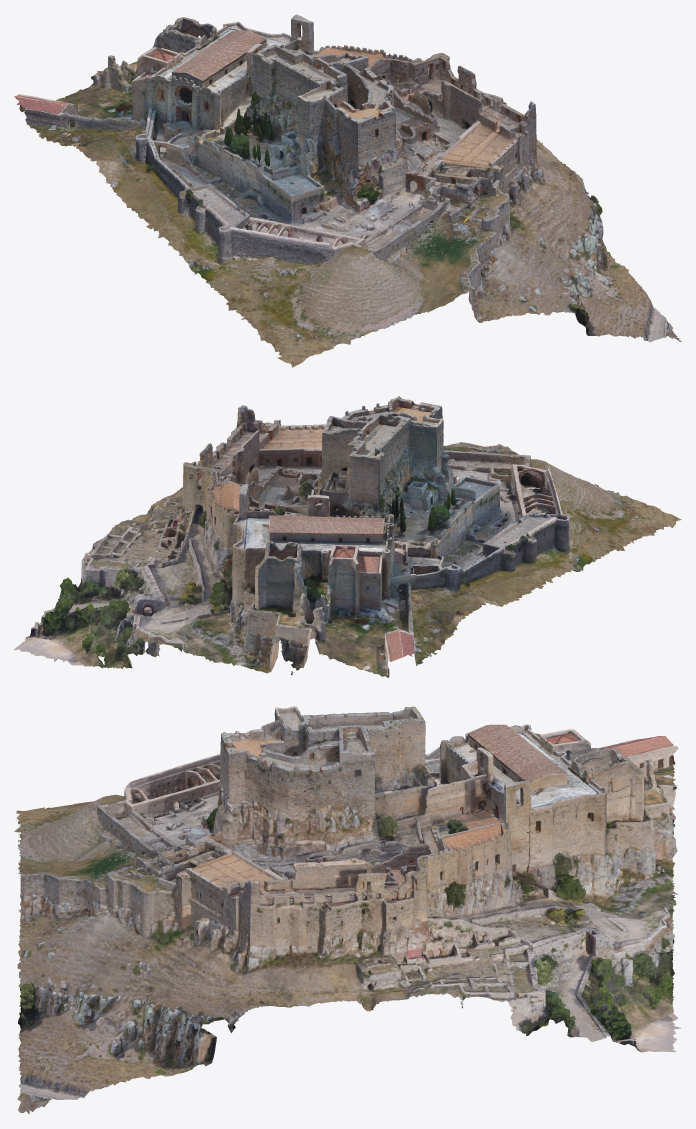
Rendered from calatrava-castle.glb.
3 views of the same model, one above another, from view 1: azimuth 30°, elevation 25°; view 2: azimuth 150°, elevation 25°; view 3: azimuth 270°, elevation 25° (orthographic). The views are drawn at different scales.
Size of the model in its own units: 1.22 by 0.6733 by 1.53.
Materials: 1 (1 with a texture image).
